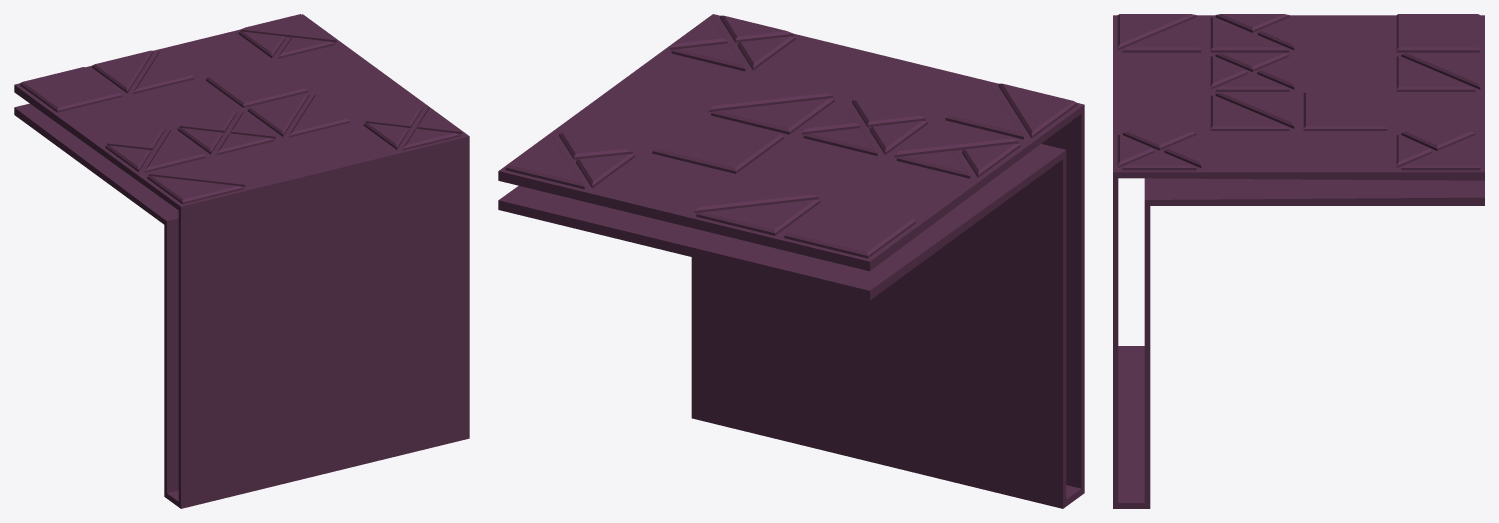
Rendered from Dungeon_Floor_C.fbx.
The picture shows the model from 3 angles, left to right: view 1: azimuth 30°, elevation 25°; view 2: azimuth 150°, elevation 25°; view 3: azimuth 270°, elevation 25°; orthographic projection. The views are drawn at different scales.
Parts seen in each view (by area): view 1: Ground.3; view 2: Ground.3; view 3: Ground.3.
Part boxes in pixels (x1,y1,x2,y2): Ground.3: (14,14,469,508); Ground.3: (498,14,1084,508); Ground.3: (1113,14,1484,508).
Bounding box in the file's own units: 4 × 4.05 × 4.
